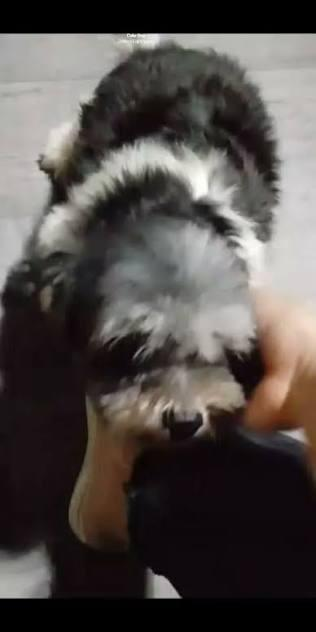adult_dog: (0, 46, 280, 596)
